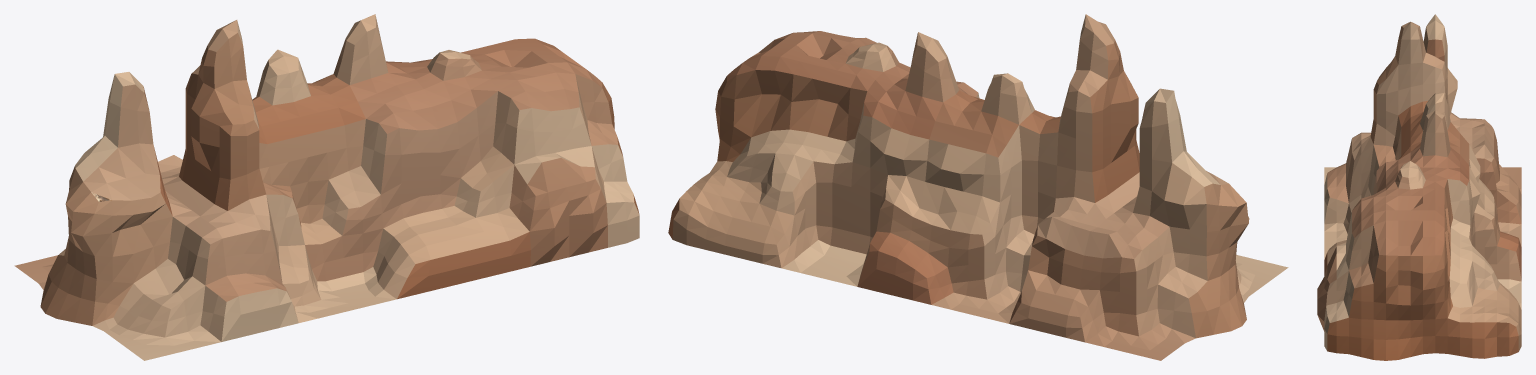
Rendered from Mountain_desert_008.obj.
3 renders of one model, left to right at view 1: azimuth 30°, elevation 25°; view 2: azimuth 150°, elevation 25°; view 3: azimuth 270°, elevation 25°, orthographic. The views are drawn at different scales.
Parts seen in each view (by area): view 1: Mountain_desert_008; view 2: Mountain_desert_008; view 3: Mountain_desert_008.
Part boxes in pixels (x1=…): Mountain_desert_008: x1=14, y1=14, x2=639, y2=360; Mountain_desert_008: x1=668, y1=14, x2=1288, y2=360; Mountain_desert_008: x1=1317, y1=14, x2=1521, y2=360.
Bounding box in the file's own units: 5606 × 2588 × 2382.
Materials: 1 (1 with a texture image).
